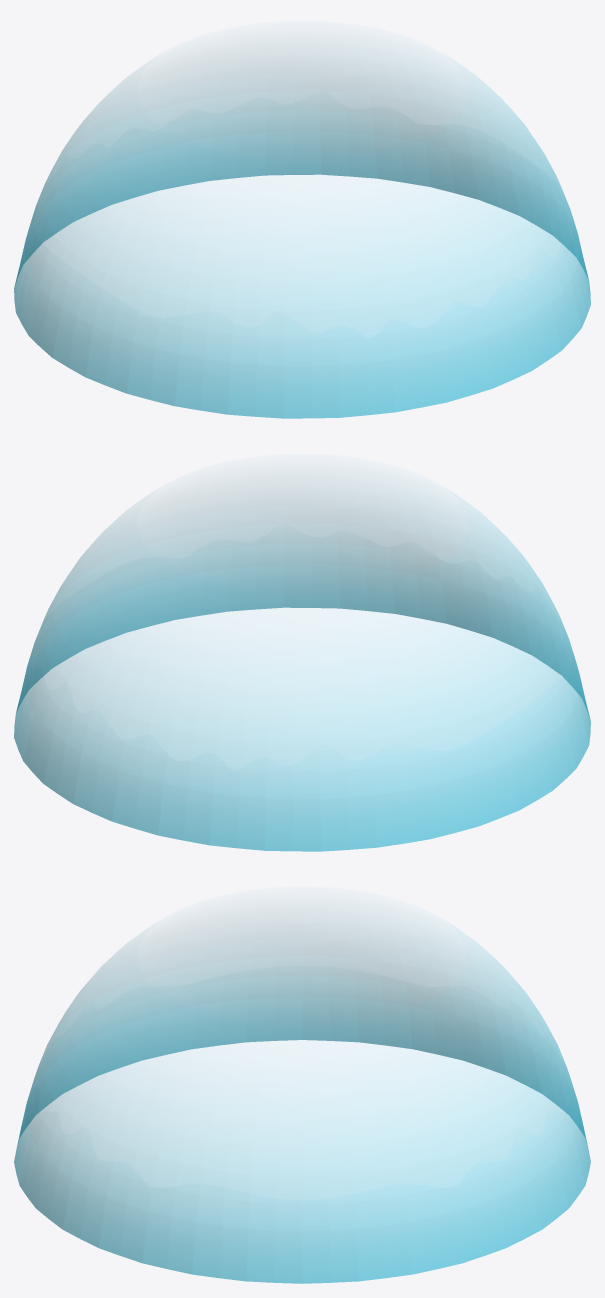
Rendered from 蓝色光波.glb.
3 renders of one model, top to bottom at view 1: azimuth 30°, elevation 25°; view 2: azimuth 150°, elevation 25°; view 3: azimuth 270°, elevation 25°, orthographic.
Parts seen in each view (by area): view 1: 球体; view 2: 球体; view 3: 球体.
Boxes of the visible parts, x1,y1,x2,y2 form: 球体: (14, 60, 590, 418); 球体: (14, 493, 590, 851); 球体: (14, 925, 590, 1283).
Bounding box in the file's own units: 2.03 × 0.9978 × 2.03.
Materials: 1 (1 with a texture image).
